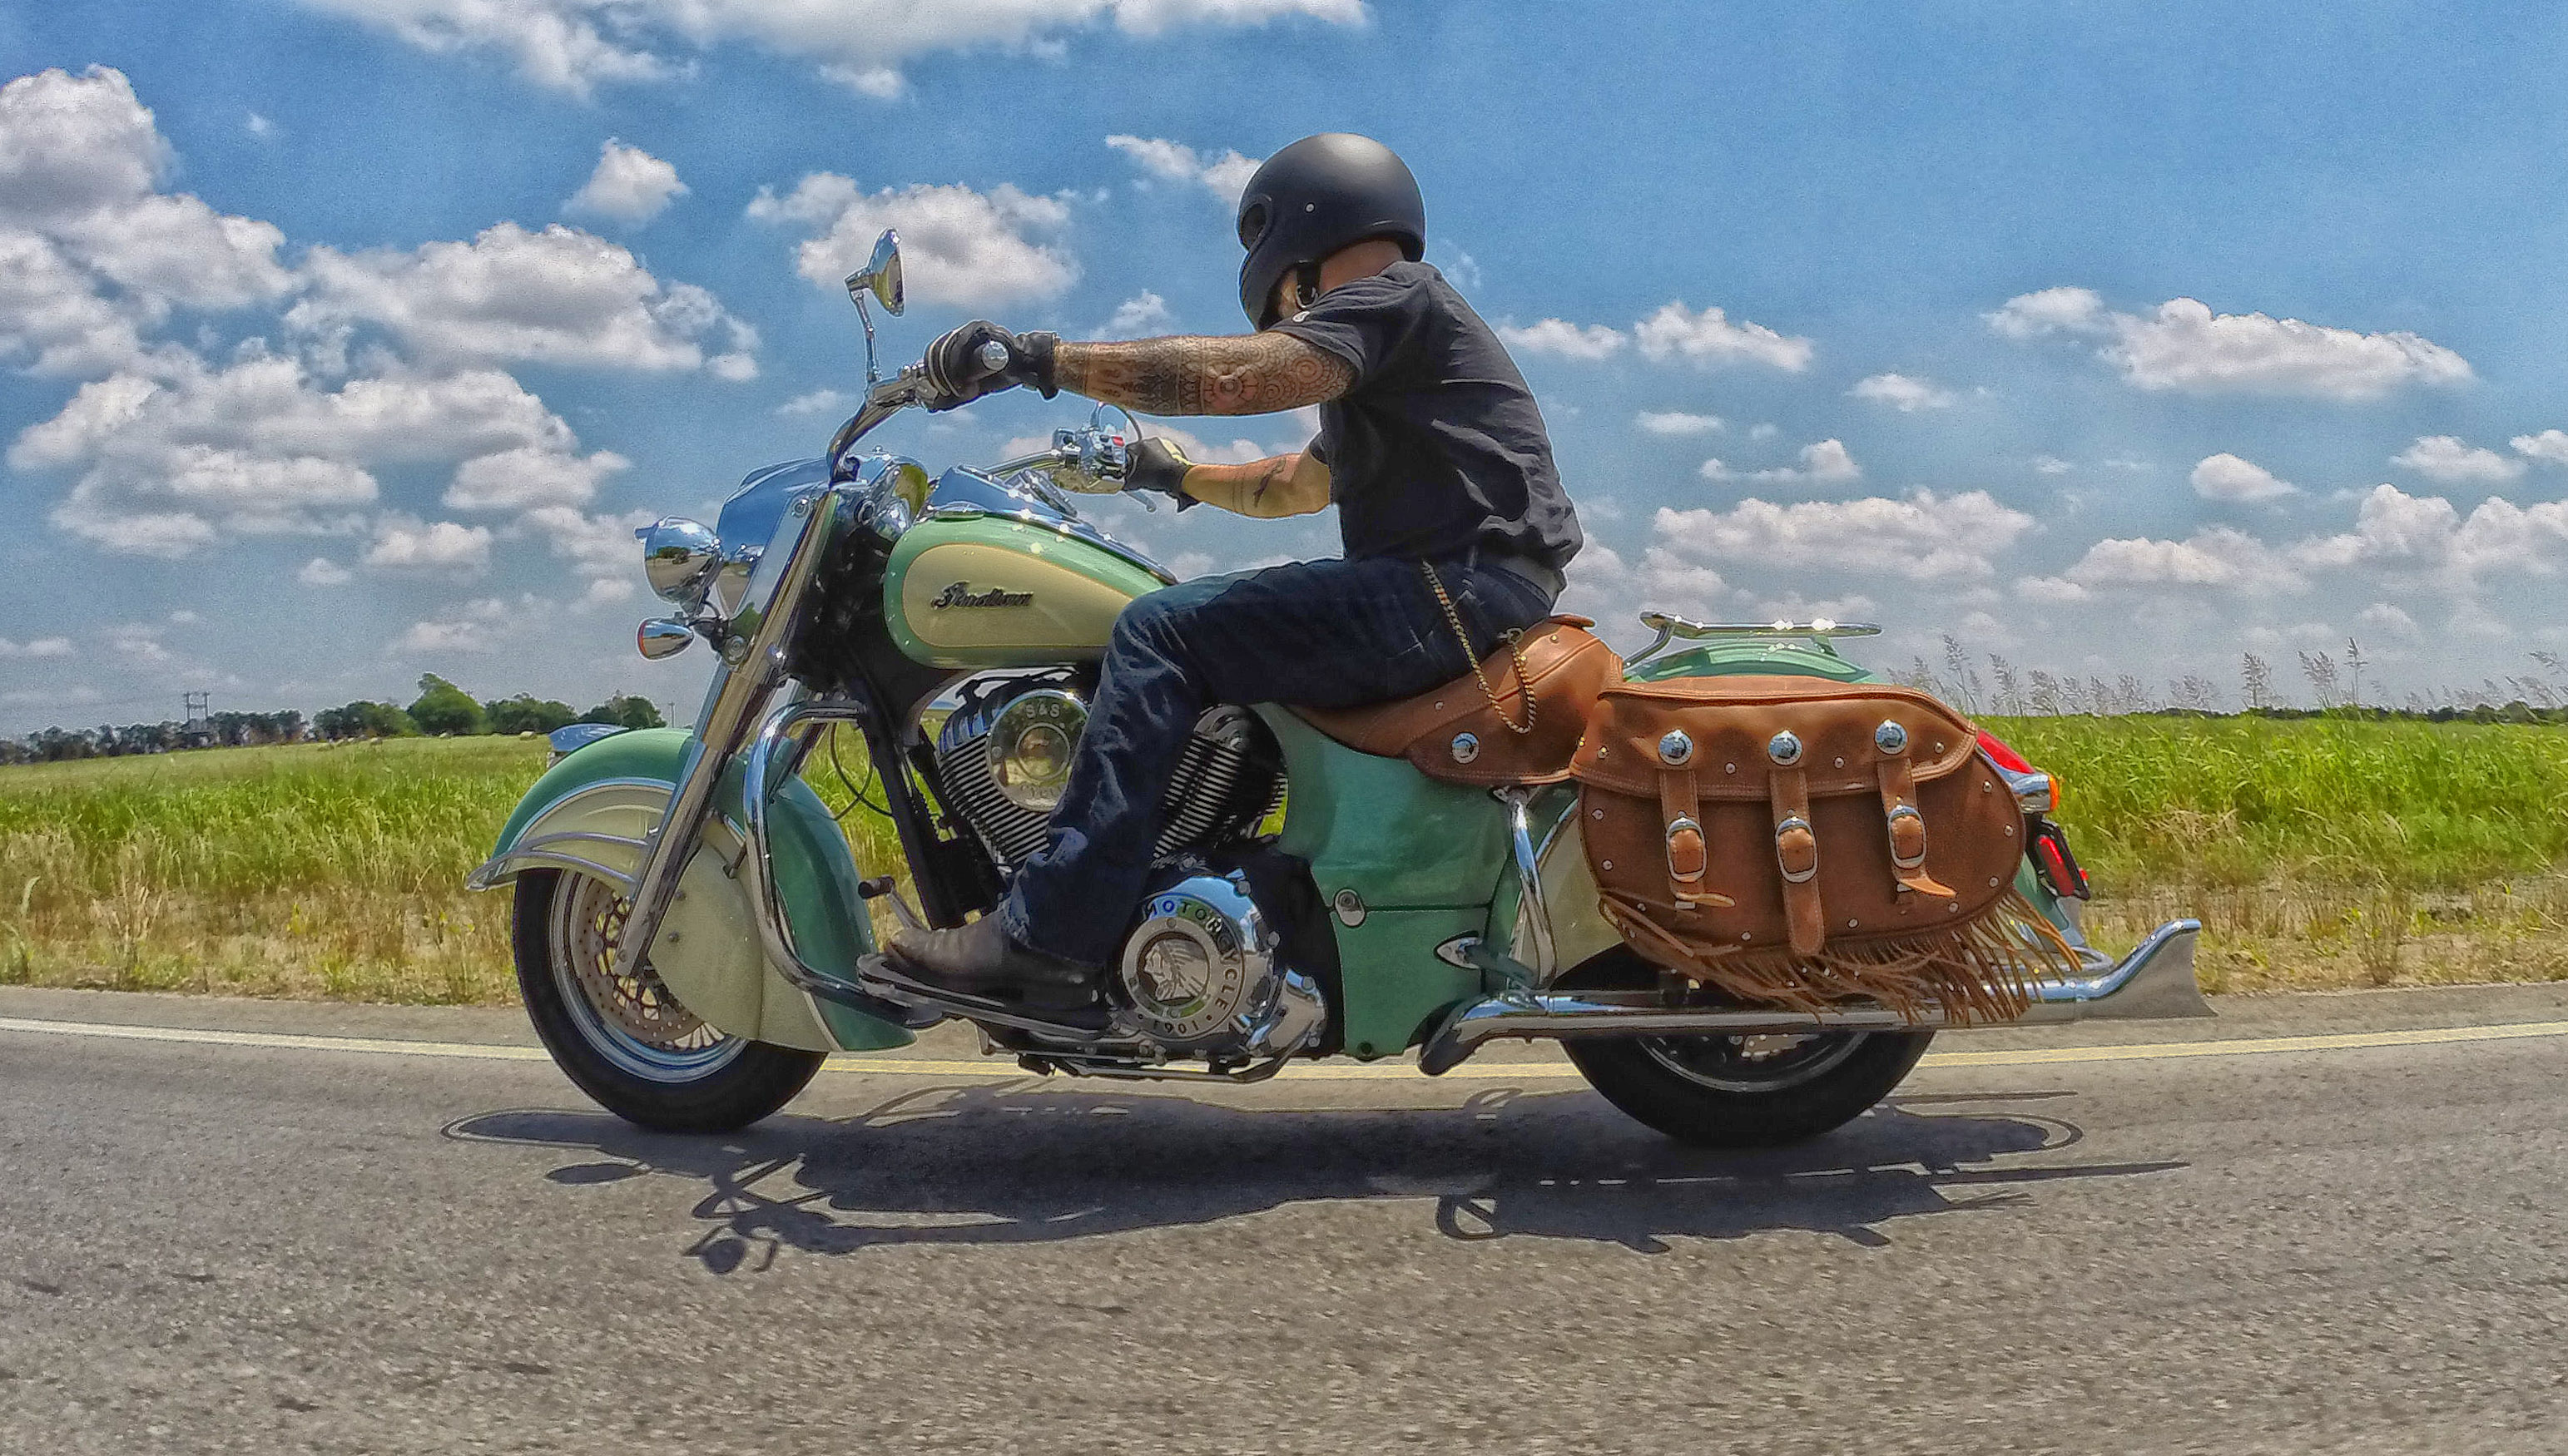Motor Cycle: (490, 333, 2104, 1158)
